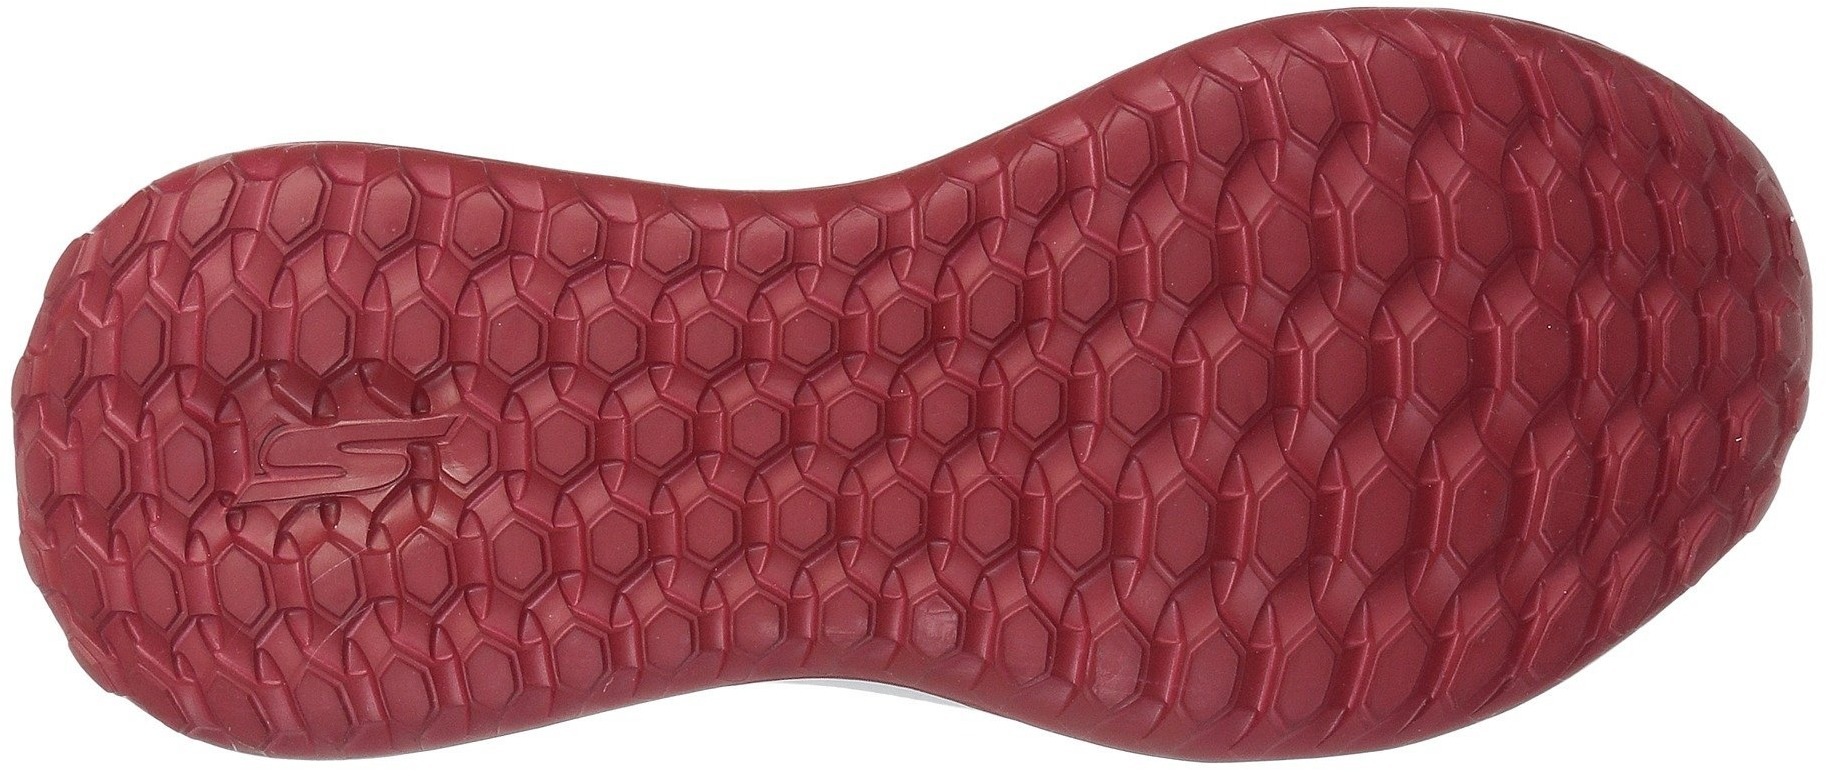exclude: (541, 677, 1105, 769)
polygon: (433, 212, 890, 664), (916, 177, 1350, 603), (1348, 188, 1730, 561), (154, 165, 364, 384), (184, 548, 385, 733)
quad: (433, 212, 890, 664), (916, 177, 1350, 603), (1348, 188, 1730, 561), (154, 165, 364, 384), (184, 548, 385, 733)
text: (240, 375, 432, 549)
triangle: (433, 212, 890, 664), (916, 177, 1350, 603), (1348, 188, 1730, 561), (154, 165, 364, 384), (184, 548, 385, 733)
